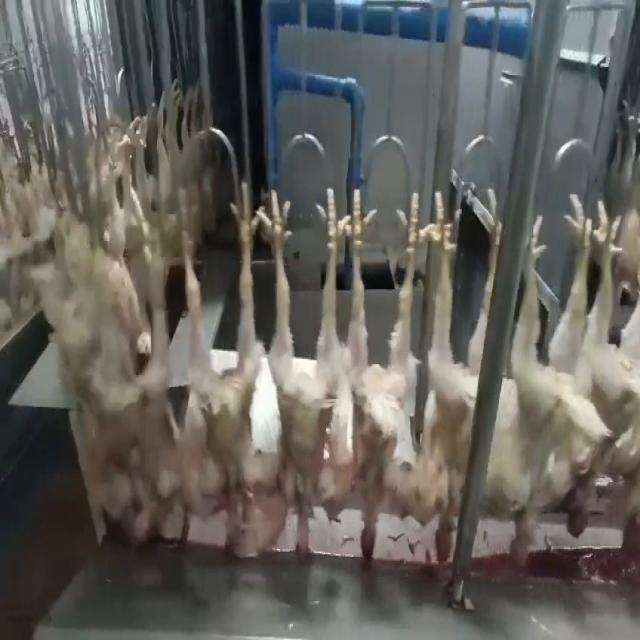chicken: (492, 190, 596, 570), (332, 185, 429, 568), (403, 191, 498, 565), (178, 185, 266, 584), (263, 185, 344, 562), (96, 198, 175, 549), (566, 195, 639, 550)
